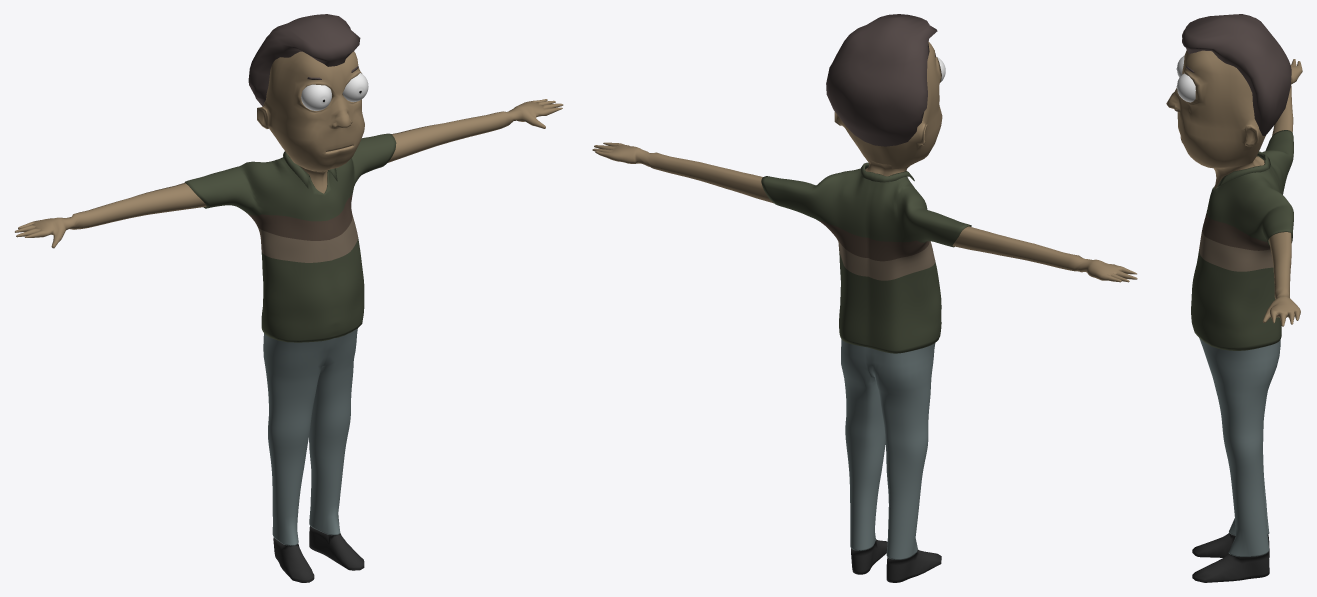
Rendered from Jerry no amature.fbx.
3 renders of one model, left to right at view 1: azimuth 30°, elevation 25°; view 2: azimuth 150°, elevation 25°; view 3: azimuth 270°, elevation 25°, orthographic.
Parts seen in each view (by area): view 1: Jerry, Shirt, Jerry.001; view 2: Jerry, Shirt, Jerry.001; view 3: Shirt, Jerry, Jerry.001, Eyes.
Boxes of the visible parts, <box> form: Jerry: <box>15,99,563,582</box>; Shirt: <box>184,133,396,342</box>; Jerry.001: <box>248,14,364,171</box>; Jerry: <box>592,142,1137,582</box>; Shirt: <box>761,162,971,353</box>; Jerry.001: <box>826,14,942,168</box>; Shirt: <box>1191,130,1293,350</box>; Jerry: <box>1192,59,1302,582</box>; Jerry.001: <box>1166,14,1291,168</box>; Eyes: <box>1176,73,1195,102</box>.
Bounding box in the file's own units: 138 × 132 × 29.86.
